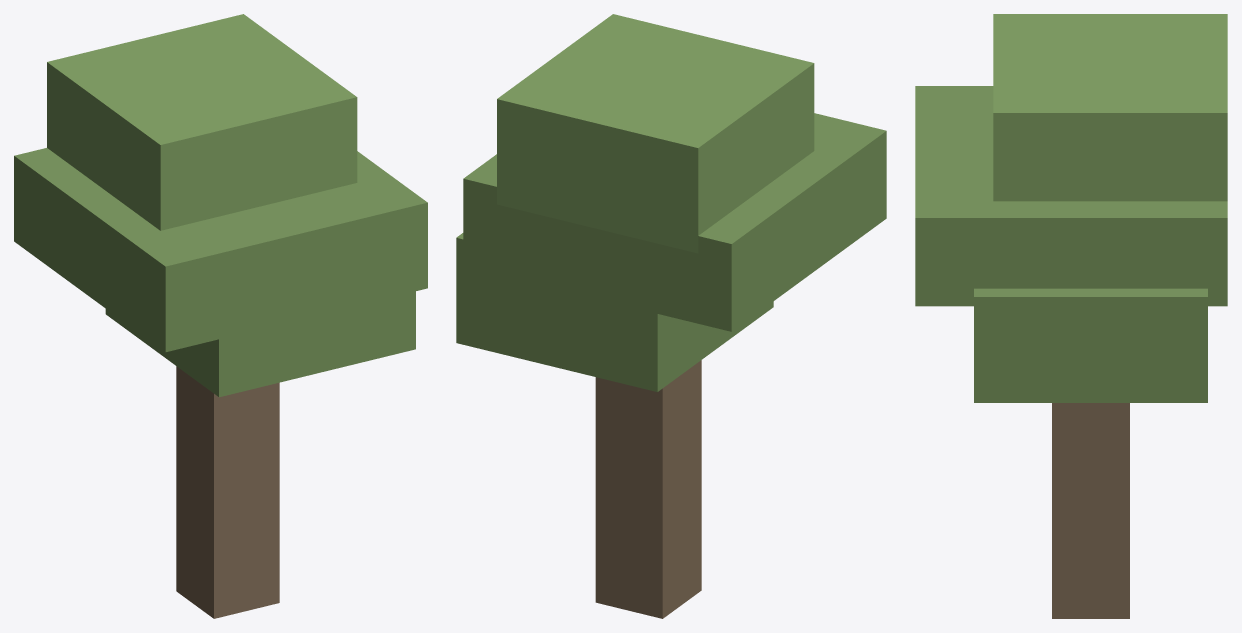
File: olmo_03.glb
3 views of the same model, side by side, from view 1: azimuth 30°, elevation 25°; view 2: azimuth 150°, elevation 25°; view 3: azimuth 270°, elevation 25° (orthographic). The views are drawn at different scales.
Parts seen in each view (by area): view 1: olmo_03; view 2: olmo_03; view 3: olmo_03.
Part boxes in pixels (x1,y1,x2,y2): olmo_03: (14, 14, 427, 618); olmo_03: (456, 14, 886, 618); olmo_03: (915, 14, 1227, 618).
Size of the model in its own units: 1.7 by 3 by 1.6.
